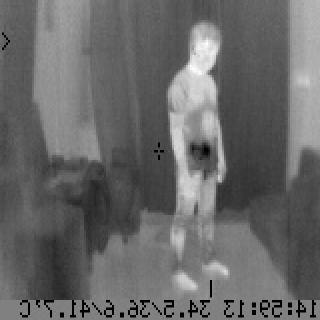Gun: (188, 135, 214, 183)
